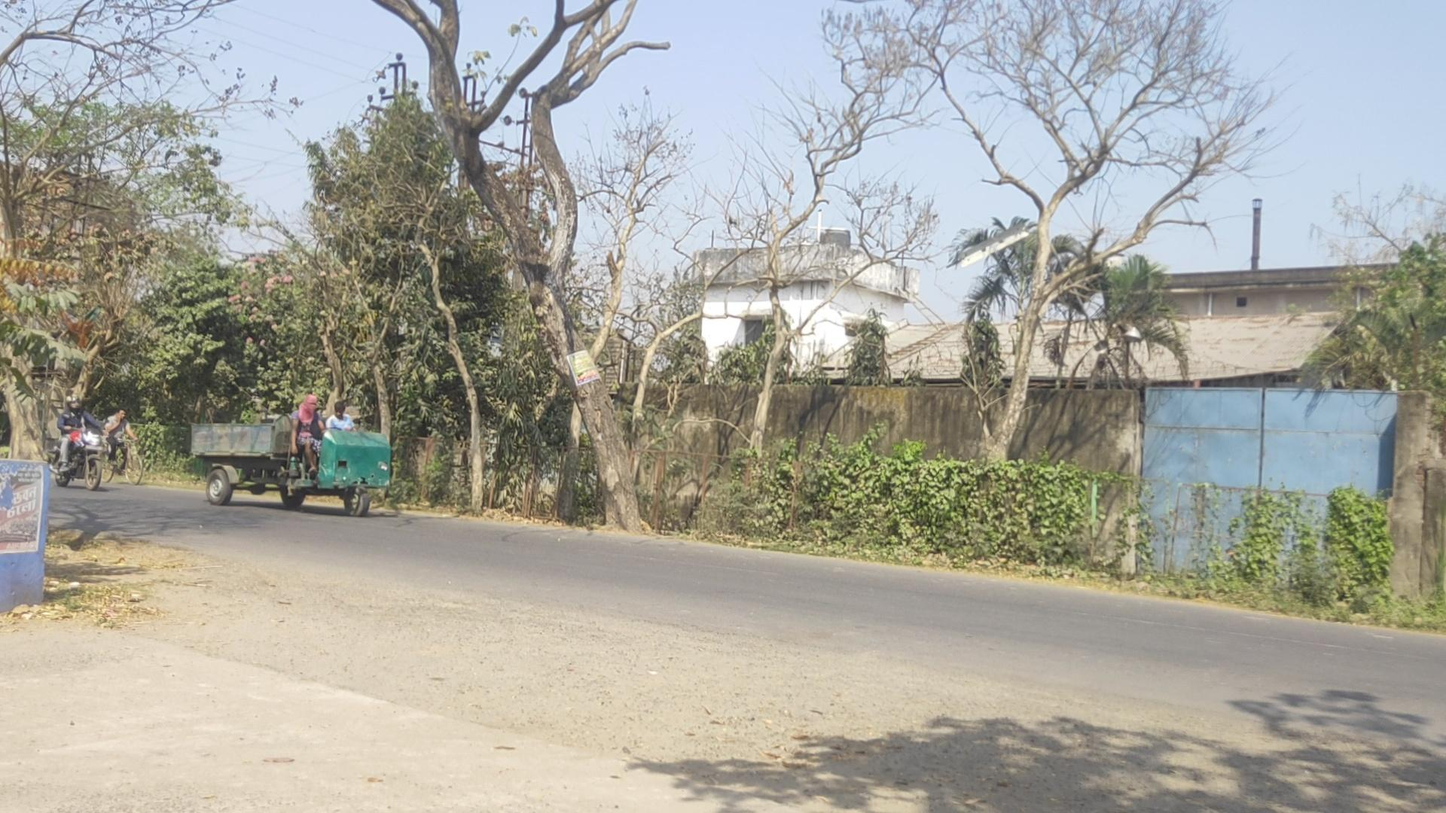bike: (44, 394, 106, 490), (97, 408, 143, 485)
